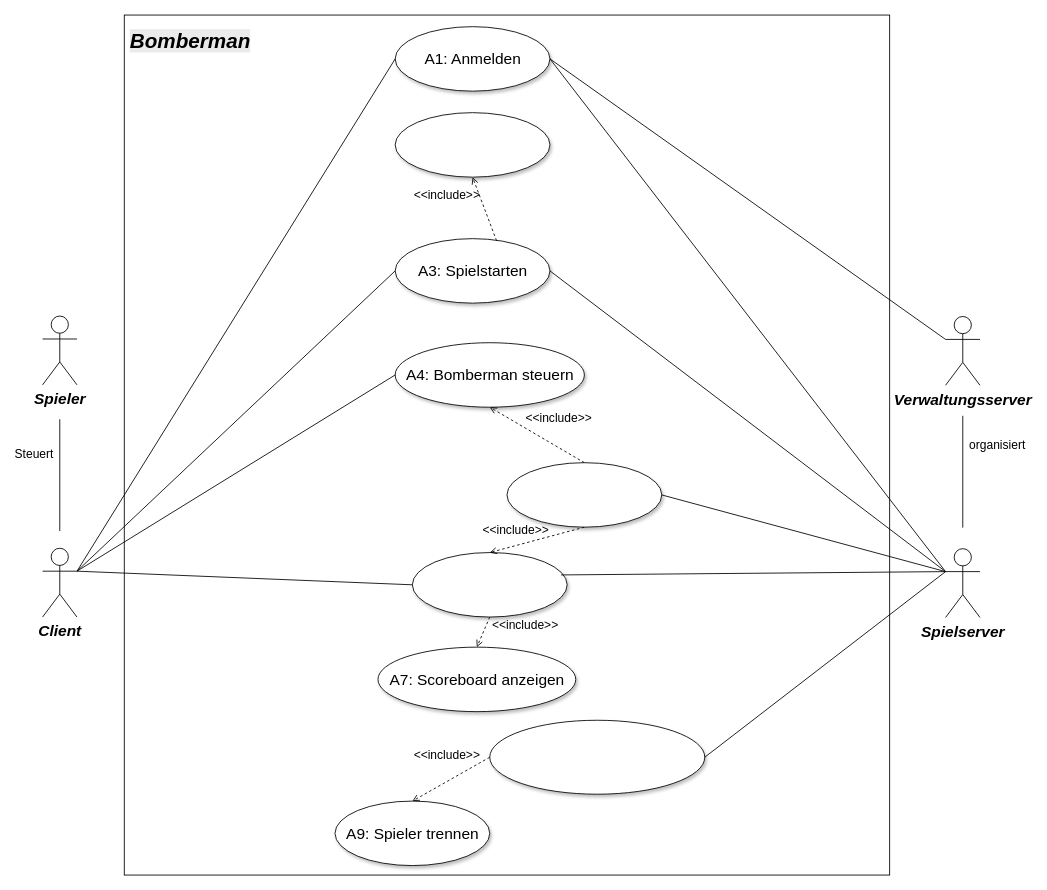
Some shapes in this 1047 by 890 pixel diagram are drawn without their labels. Here are the shapes that lost their labels. From the top down, the centre of each, then its label:
At (473,145): "A2: Spielvorbereiten".
At (585,495): "A5: Spiel verwalten".
At (490,585): "A6: Spiel beenden".
At (597,758): "A8: Verbindungsprobleme beheben".
